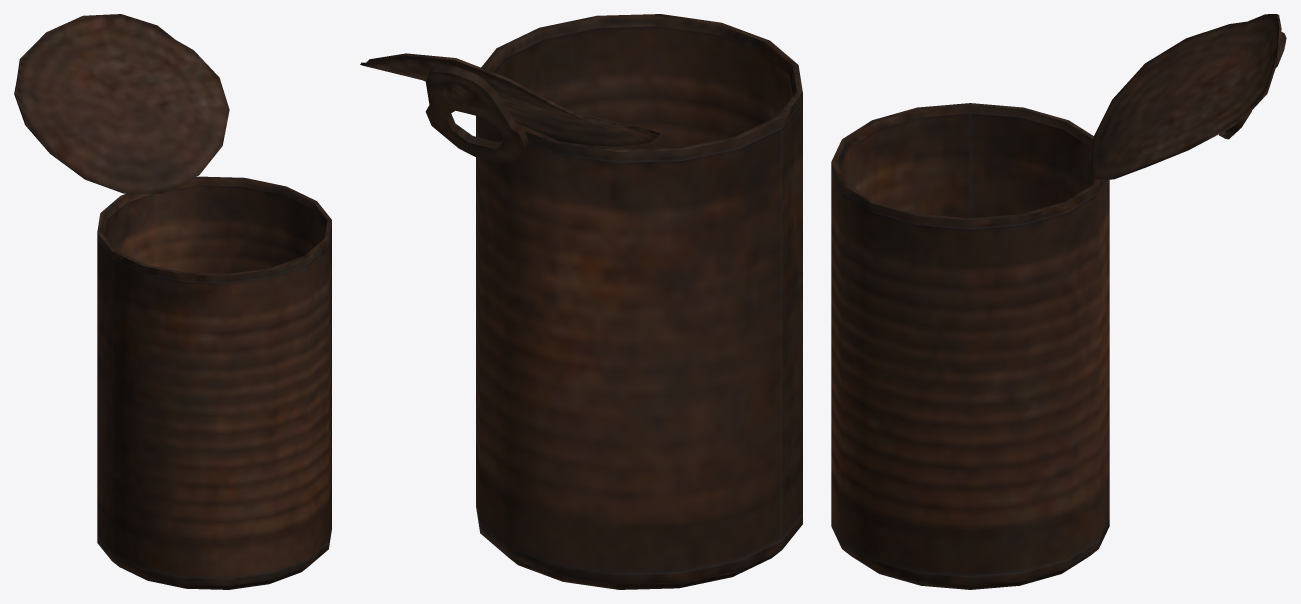
The model's file is tin_can_mp_1_rusty_1.dae.
The picture shows the model from 3 angles, left to right: view 1: azimuth 30°, elevation 25°; view 2: azimuth 150°, elevation 25°; view 3: azimuth 270°, elevation 25°; orthographic projection. The views are drawn at different scales.
Visible parts, largest first — view 1: tin_can_mp_1_rusty_1; view 2: tin_can_mp_1_rusty_1; view 3: tin_can_mp_1_rusty_1.
Part boxes in pixels (x1,y1,x2,y2): tin_can_mp_1_rusty_1: (14, 14, 331, 589); tin_can_mp_1_rusty_1: (360, 14, 802, 589); tin_can_mp_1_rusty_1: (831, 14, 1286, 589).
Bounding box in the file's own units: 0.112 × 0.1833 × 0.2256.
1 material, 1 textured.
